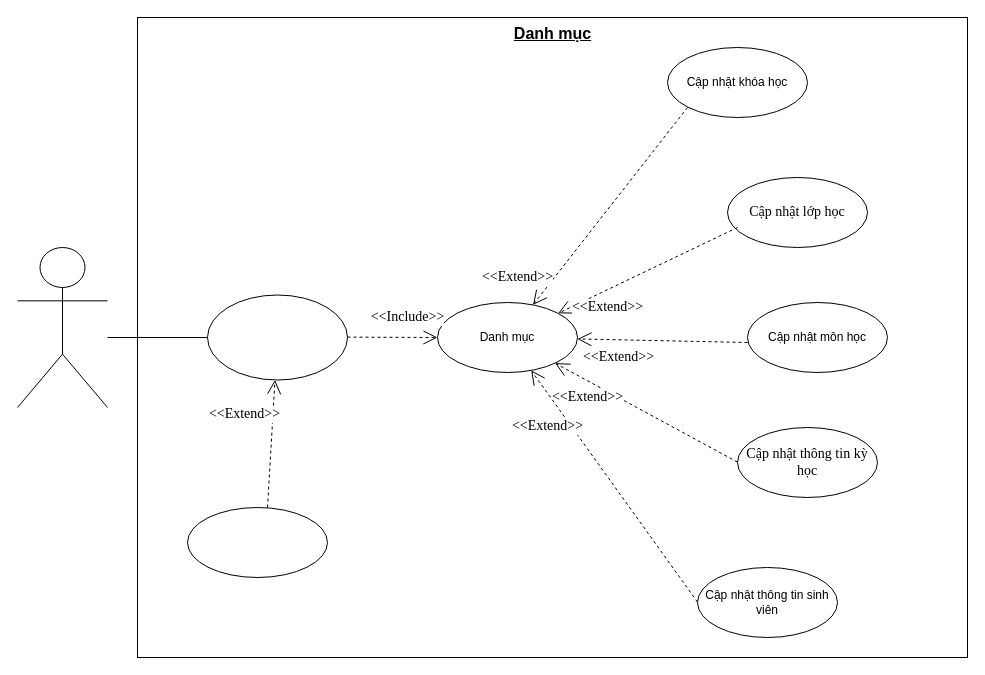
Image size: 985x675. Some labels were removed from this diagram. The centre of each missing label's shape, as x and y in pixels:
"Giáo vụ" belongs at [62,327].
"Đăng nhập" belongs at [277,337].
"Đăng xuất" belongs at [257,542].
